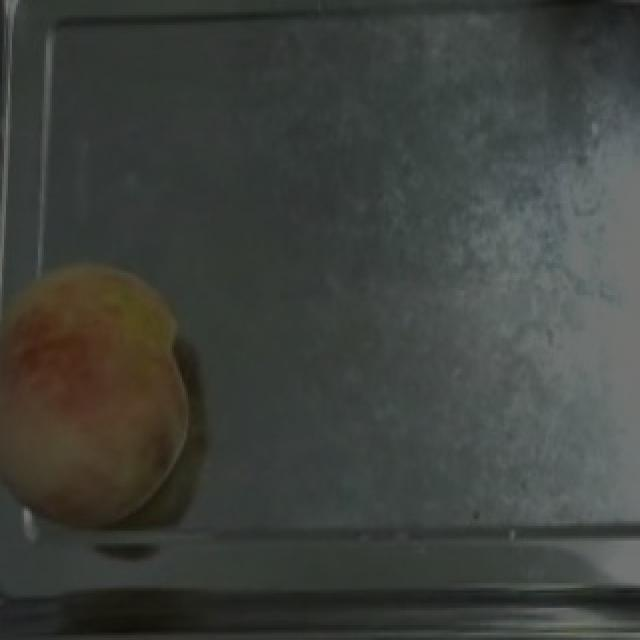Fruit: (0, 246, 202, 543)
